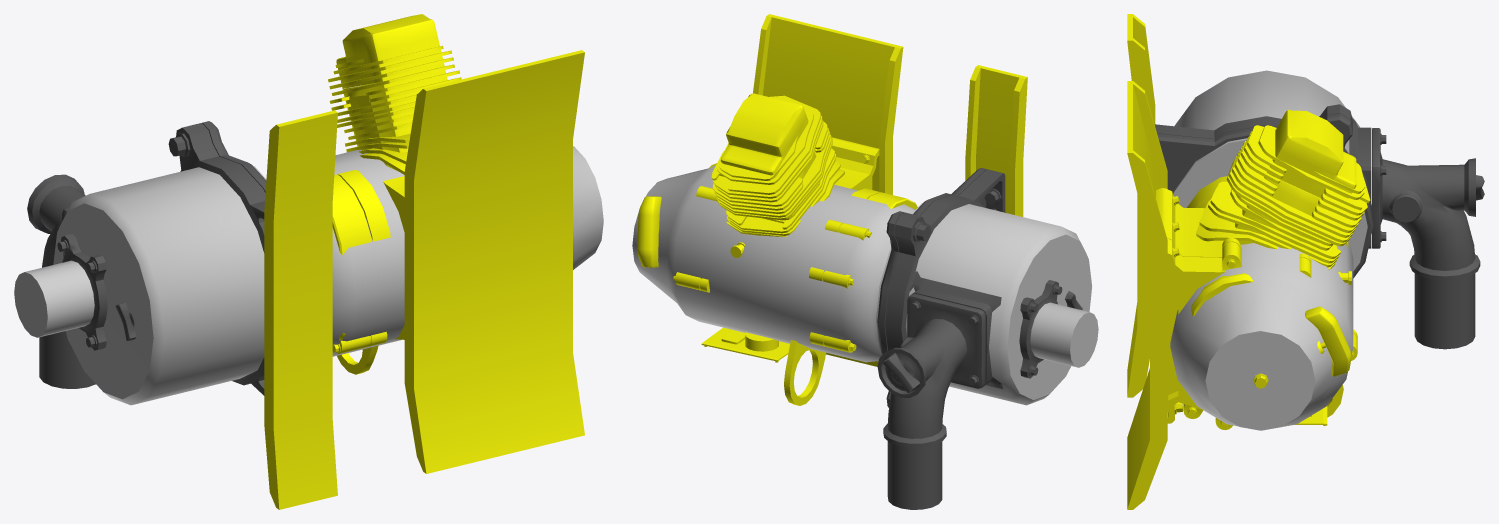
File: sm_hana_bas_sanitary_pump.glb
3 views of the same model, side by side, from view 1: azimuth 30°, elevation 25°; view 2: azimuth 150°, elevation 25°; view 3: azimuth 270°, elevation 25° (orthographic). The views are drawn at different scales.
Parts seen in each view (by area): view 1: sm_hana_bas_sanitary_pump, sm_color_common; view 2: sm_hana_bas_sanitary_pump, sm_color_common; view 3: sm_hana_bas_sanitary_pump, sm_color_common.
Boxes of the visible parts, x1,y1,x2,y2 form: sm_hana_bas_sanitary_pump: (27,14,584,509); sm_color_common: (14,146,603,405); sm_hana_bas_sanitary_pump: (637,14,1082,509); sm_color_common: (632,165,1098,405); sm_hana_bas_sanitary_pump: (1127,14,1484,509); sm_color_common: (1170,70,1367,430).
Size of the model in its own units: 1.55 by 1.07 by 0.9685.
Materials: 4 (2 with a texture image).
